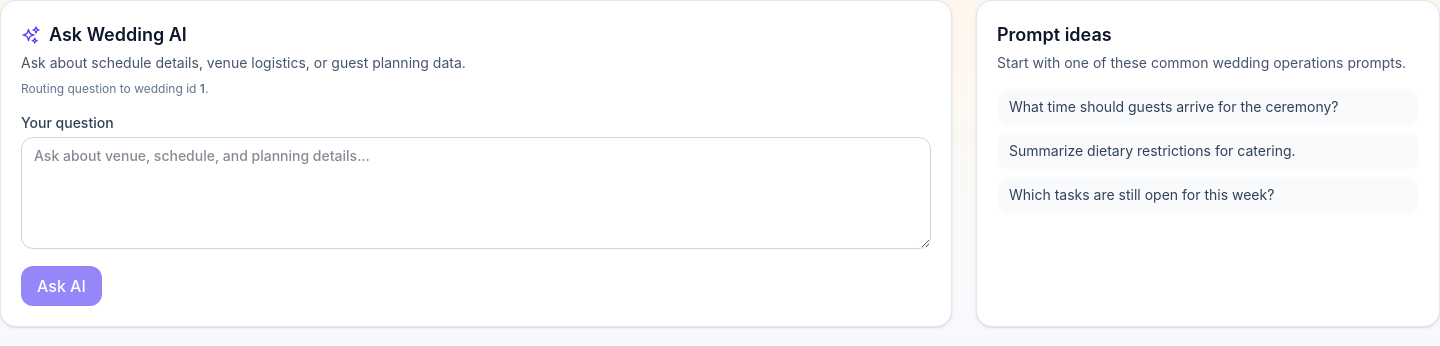
Test case: AIQnAPage › shows prompt suggestions that fill the textarea when clicked
Click the button "What time should guests arrive for the ceremony?" at {"x": 1208, "y": 107}, box [997, 89, 1419, 125]
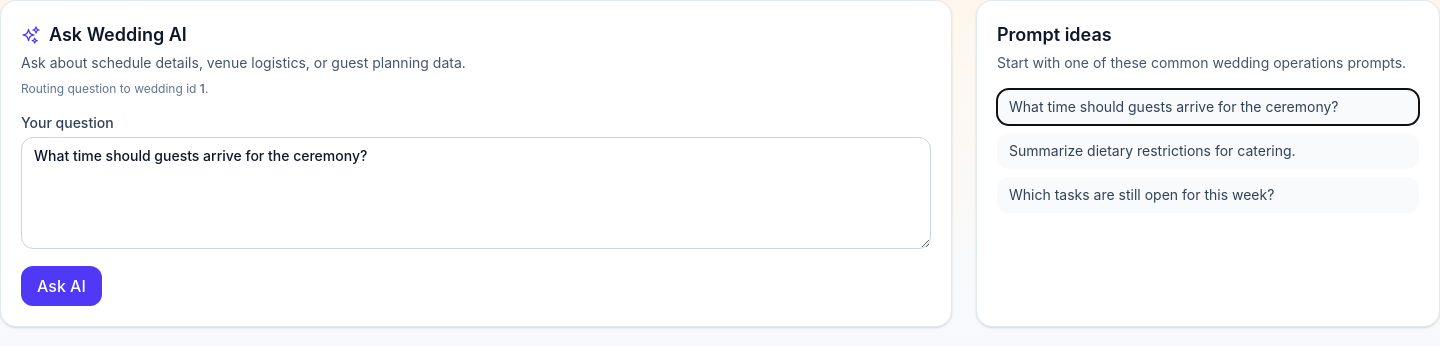
Result: the text box with placeholder "Ask about venue, schedule, and planning details..." holds "What time should guests arrive for the ceremony?" at [21, 137, 931, 249]
